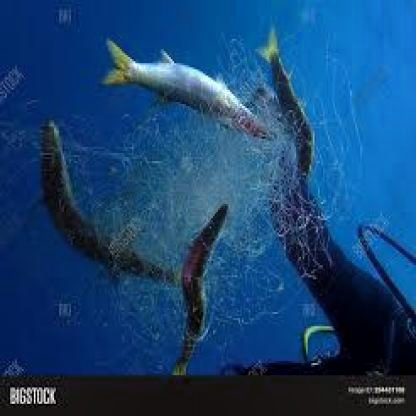net: (120, 69, 315, 314)
